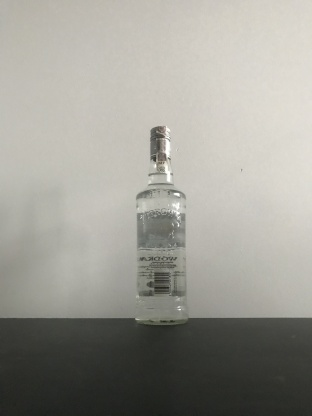nakretka: (148, 123, 172, 162)
